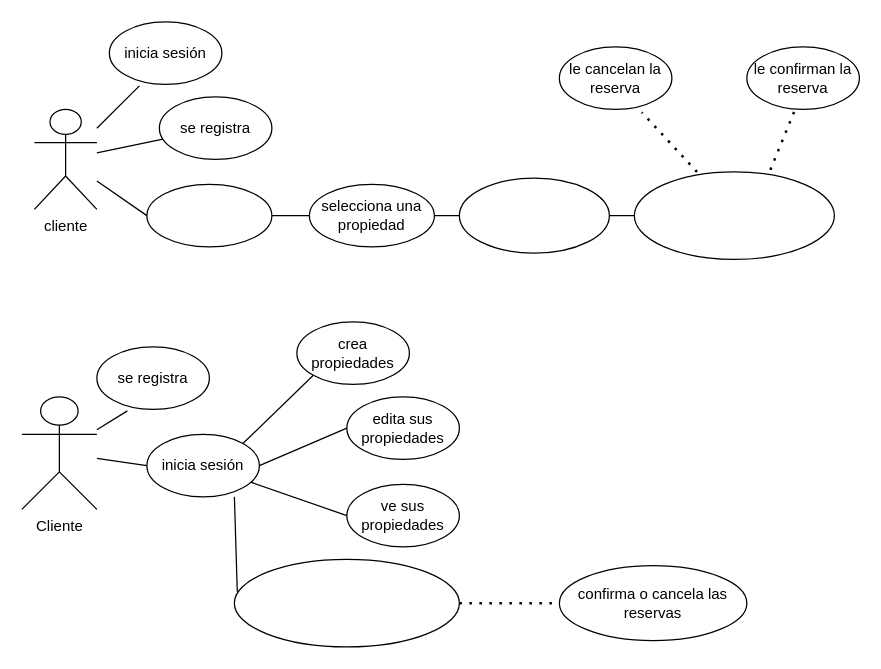
Image size: 881x669. Some labels were removed from this diagram. Here are the shapes that lost their labels. From the top down, the box of each, then its label:
(146, 183, 272, 247): ve propiedades disponibles
(458, 177, 609, 253): hace una reserva a la propiedad
(633, 171, 834, 259): espera que le confirmen o cancelen la reserva
(233, 558, 459, 647): ve las reserva que tienen sus propiedades
